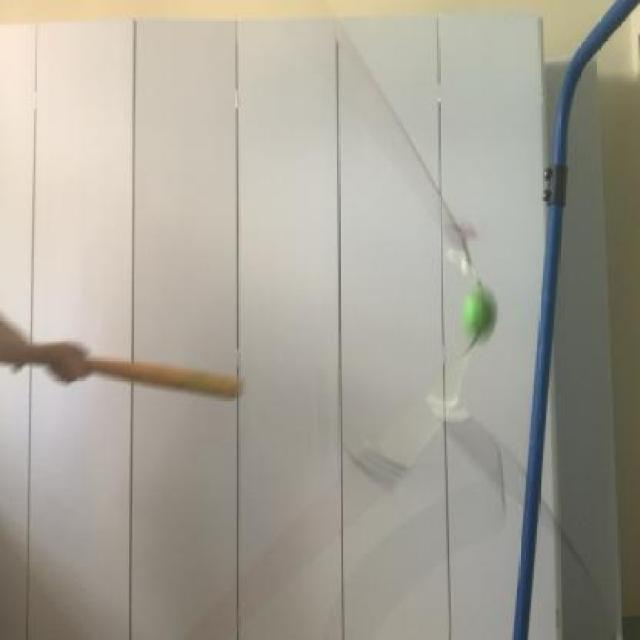baseball: (455, 273, 507, 350)
